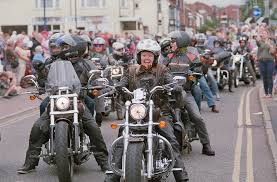helmet: (134, 38, 161, 68), (62, 35, 86, 56), (167, 30, 190, 49)
